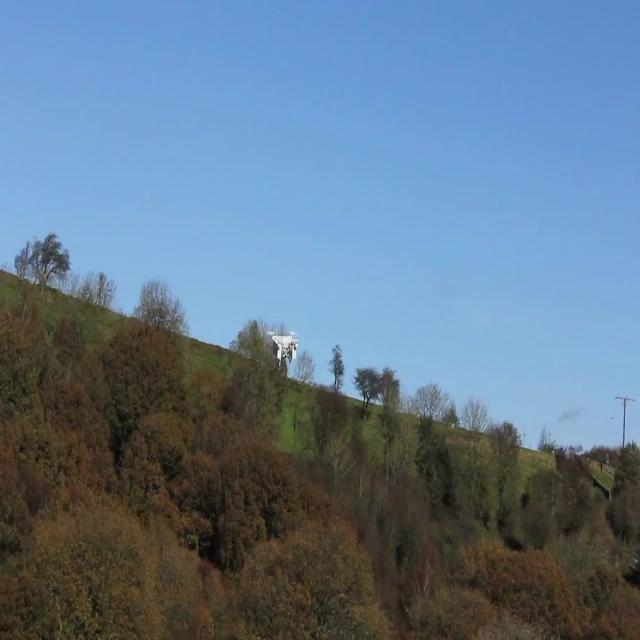drone: (264, 328, 300, 371)
